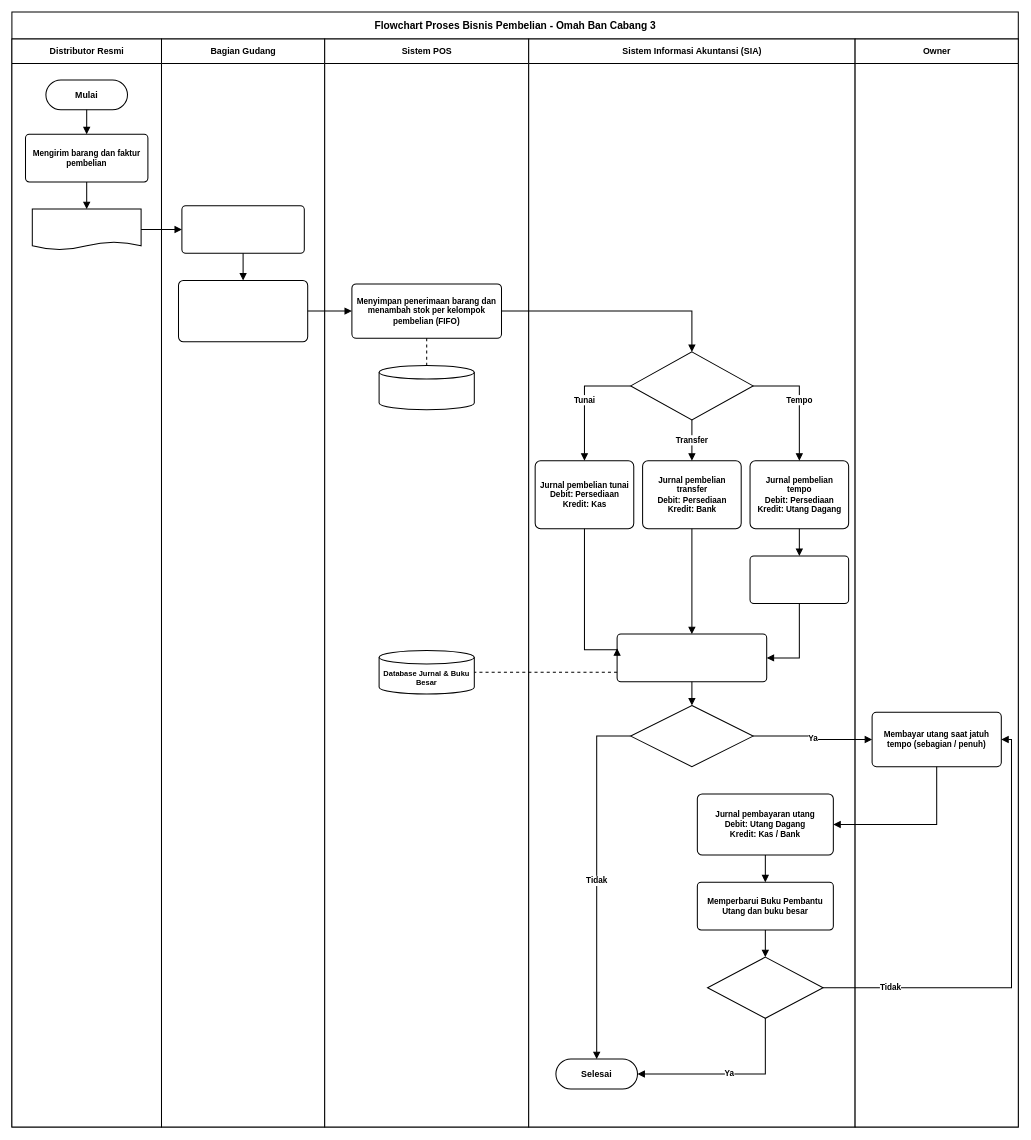
This 1031x1140 diagram has some shape labels left out. Here are the shapes that lost their labels. From the top down, the centre of each, then its label:
[86,229]: Faktur Pembelian
[243,229]: Memeriksa fisik barang sesuai faktur
[243,311]: Menginput penerimaan barang (produk, jumlah, harga, nomor faktur, termin)
[426,387]: Database Pembelian & Persediaan
[691,385]: Termin pembayaran?
[799,579]: Mencatat ke Buku Pembantu Utang (jatuh tempo)
[691,657]: Mencatat jurnal ke buku besar (laporan keuangan diperbarui otomatis)
[691,736]: Pembelian tempo?
[765,987]: Utang lunas?
